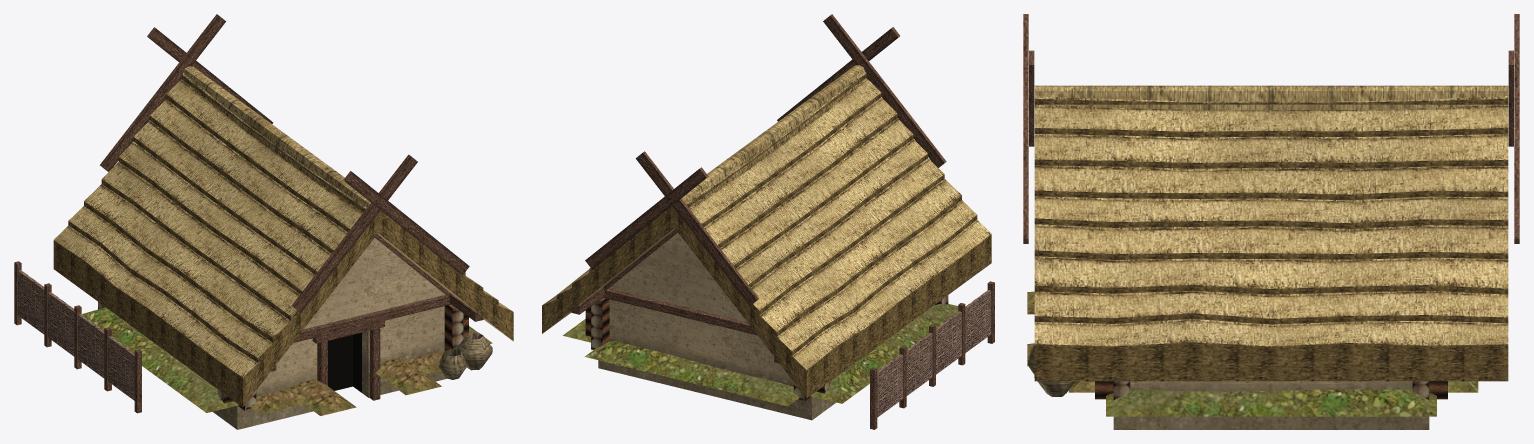
File: polozemnice.glb
The picture shows the model from 3 angles, left to right: view 1: azimuth 30°, elevation 25°; view 2: azimuth 150°, elevation 25°; view 3: azimuth 270°, elevation 25°; orthographic projection. The views are drawn at different scales.
Visible parts, largest first — view 1: polozemnice; view 2: polozemnice; view 3: polozemnice.
Part boxes in pixels (x1=…): polozemnice: x1=14, y1=14, x2=513, y2=429; polozemnice: x1=542, y1=14, x2=994, y2=429; polozemnice: x1=1023, y1=14, x2=1519, y2=429.
Size of the model in its own units: 6.39 by 4.86 by 6.6.
Materials: 1 (1 with a texture image).
